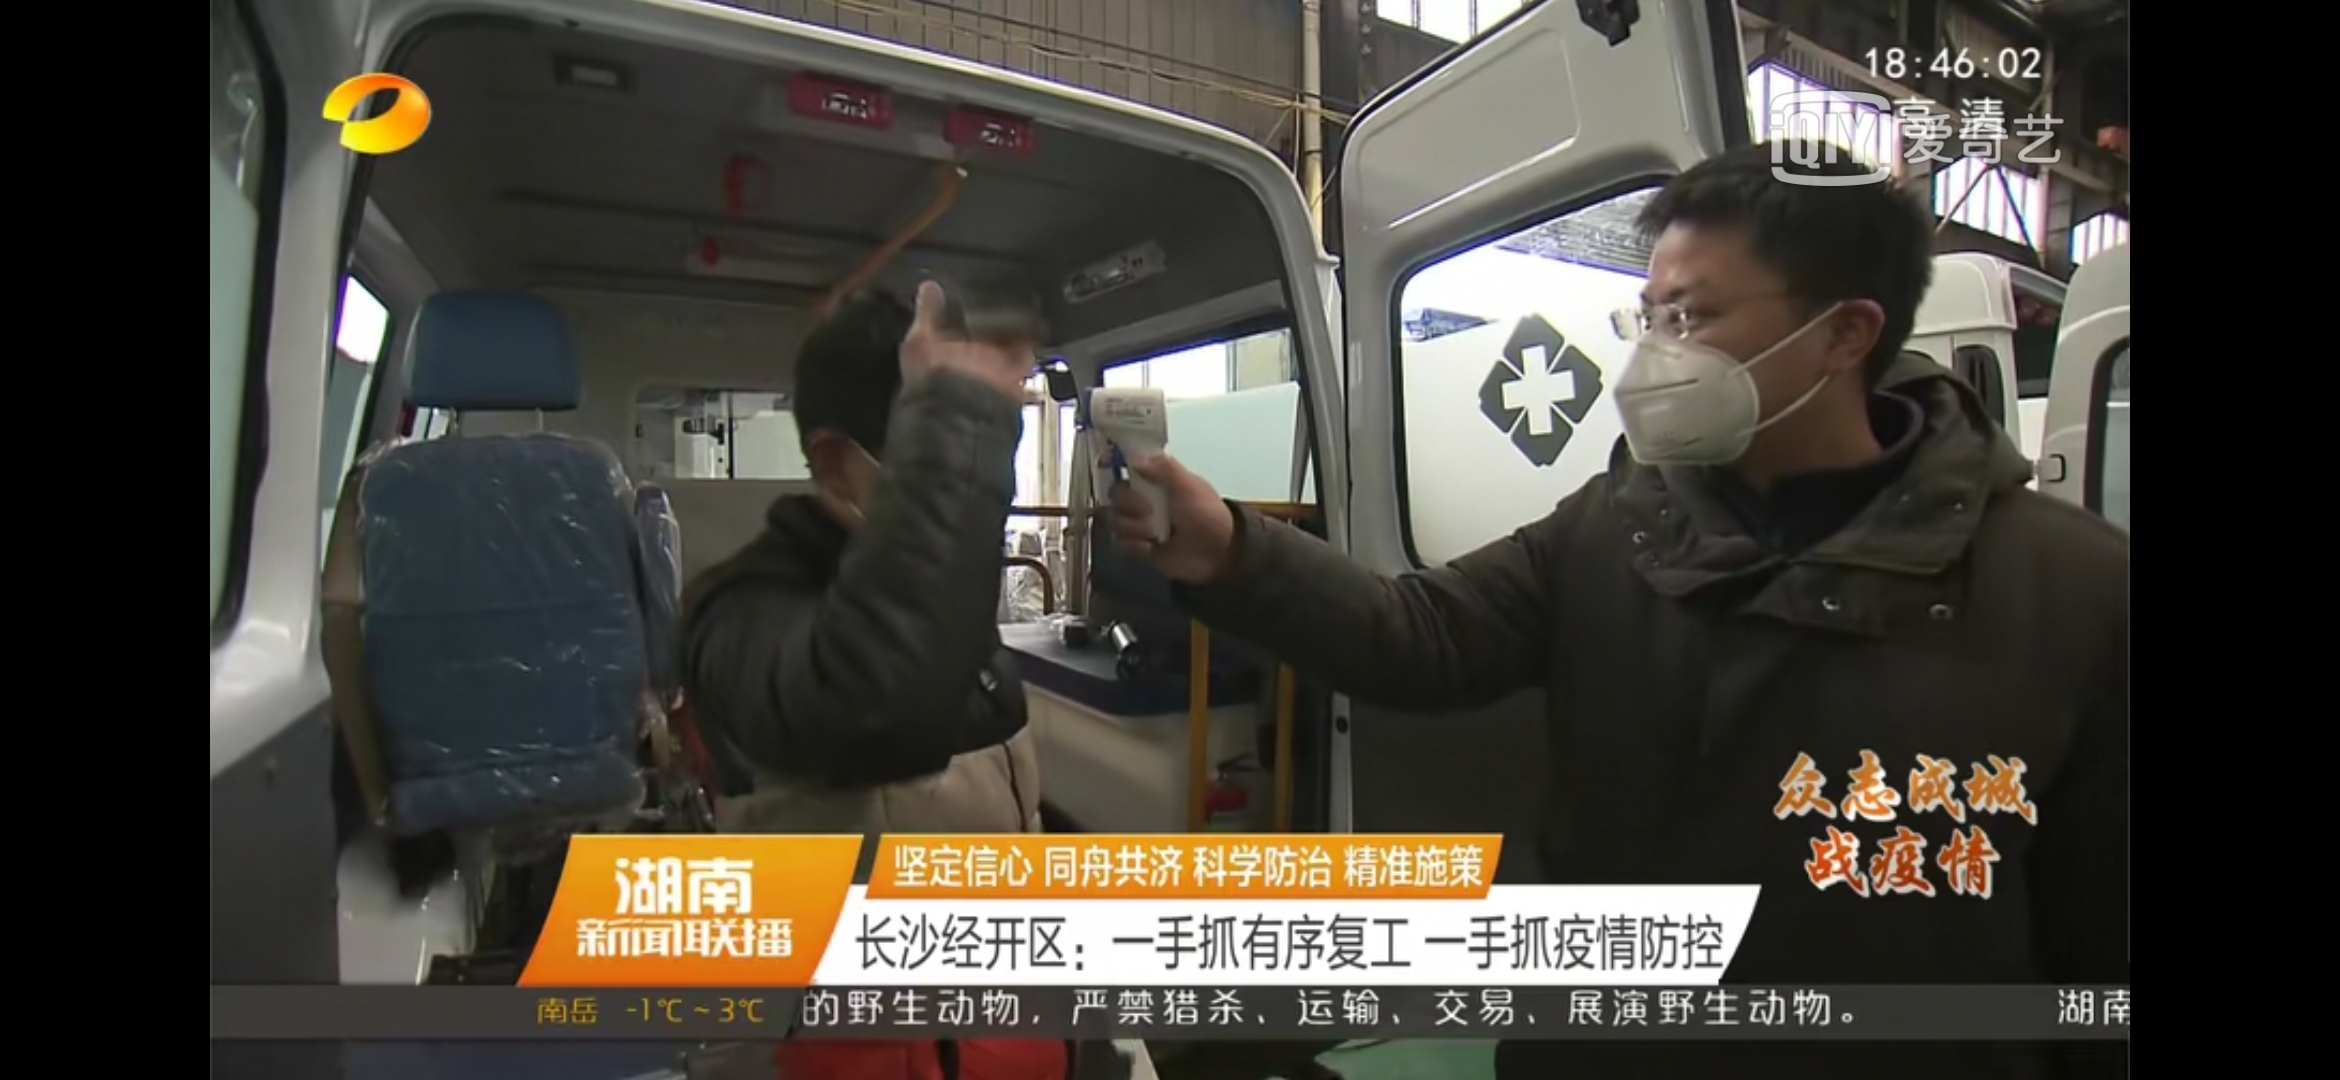correctlyWear: (1610, 231, 1886, 471)
